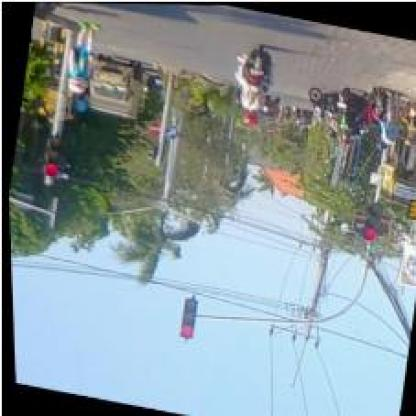red: (38, 132, 60, 176), (175, 295, 195, 339), (362, 199, 382, 237)
